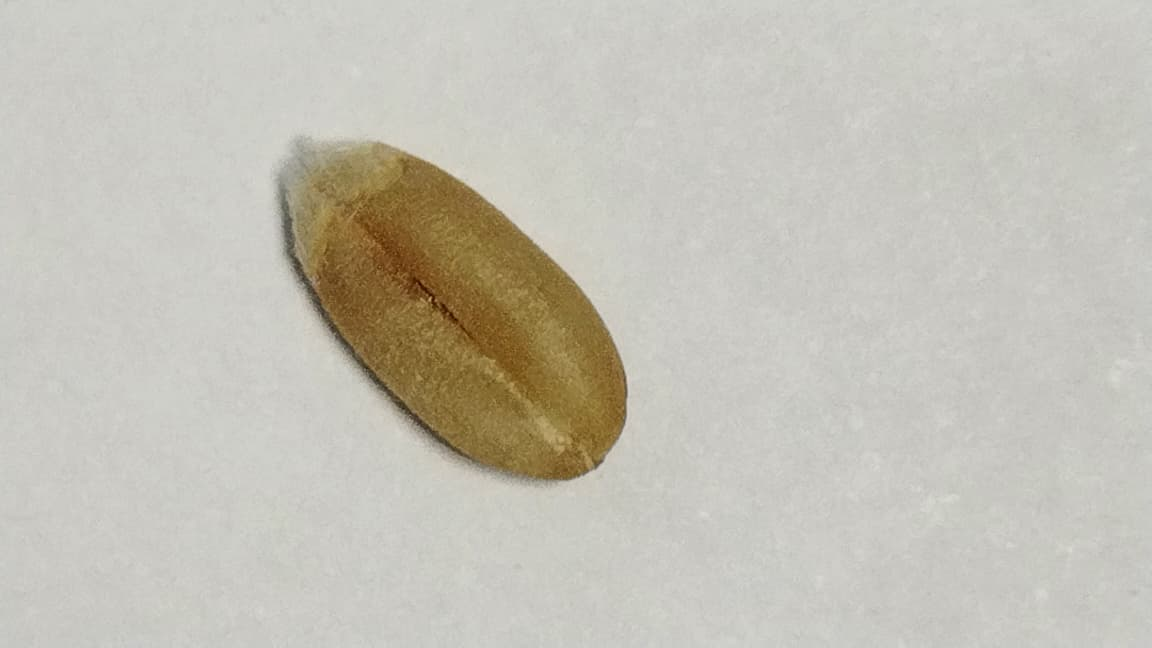healthy: (274, 137, 627, 479)
